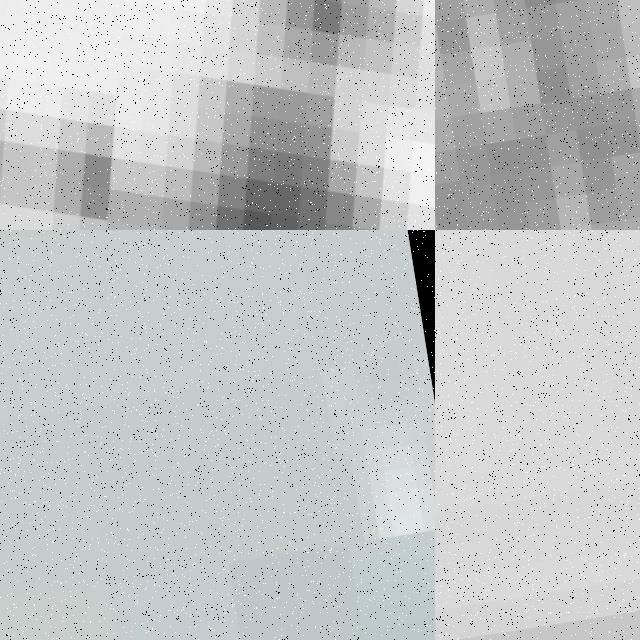drone: (0, 0, 435, 230)
